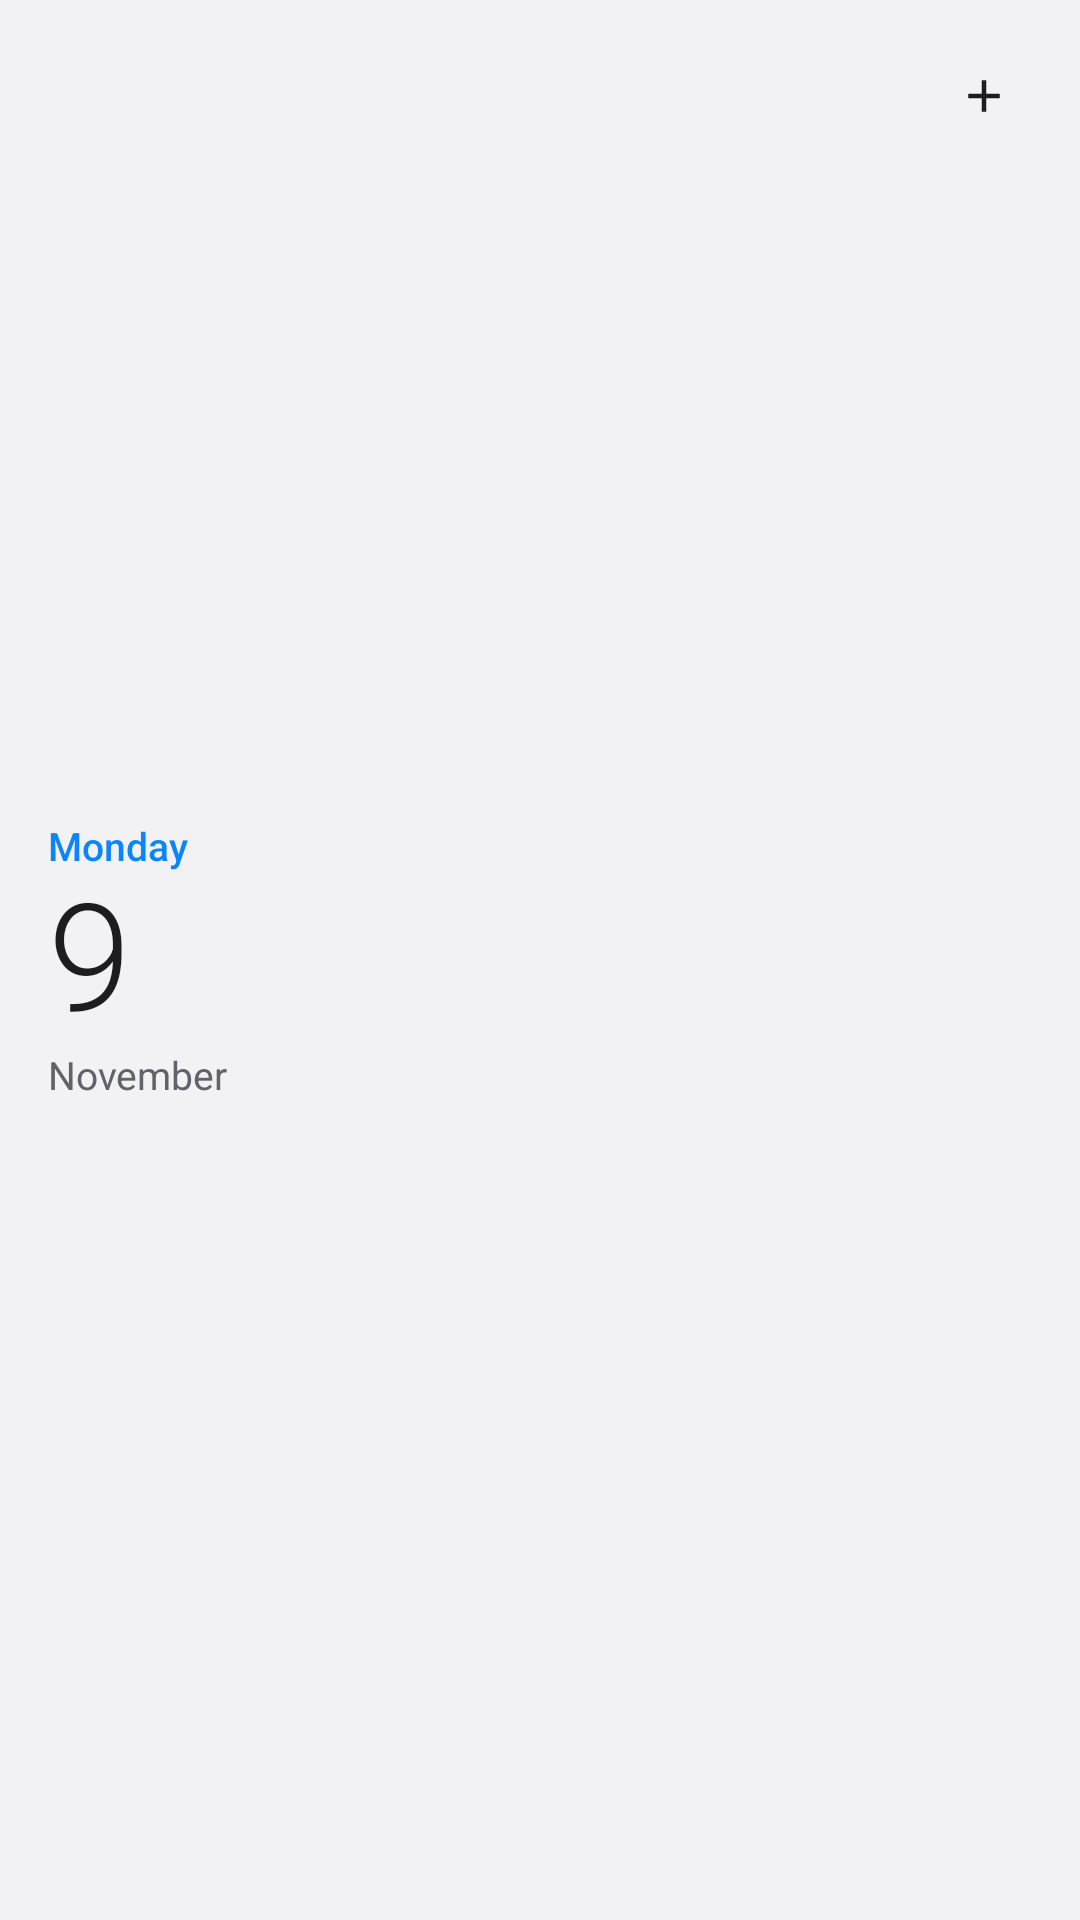

Where icons sit on this 1080×1920 app screen, as (x1, y1, x2, y2):
Add an event: (968, 80, 1000, 112)
